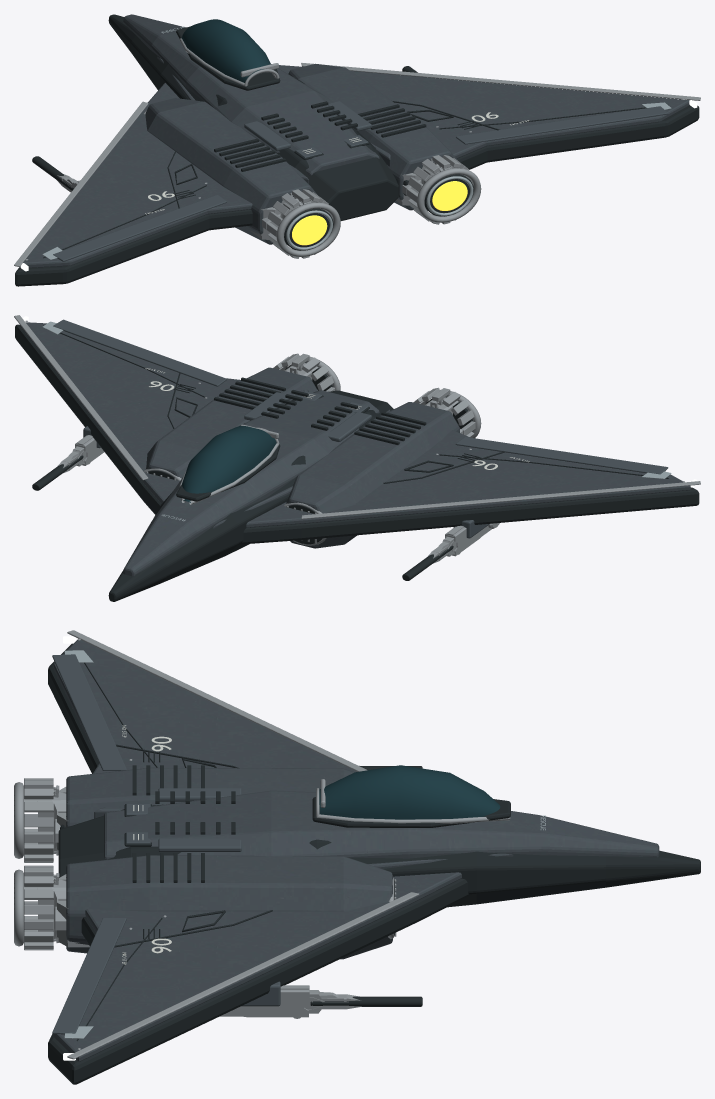
Rendered from specter.glb.
The picture shows the model from 3 angles, top to bottom: view 1: azimuth 30°, elevation 25°; view 2: azimuth 150°, elevation 25°; view 3: azimuth 270°, elevation 25°; orthographic projection. The views are drawn at different scales.
Parts seen in each view (by area): view 1: 主装甲_陶瓷金属涂层, 碳化结构与接缝, 拉丝钛合金, 次级装甲_深色钢, 镀膜座舱玻璃, 热喷口, 识别色; view 2: 主装甲_陶瓷金属涂层, 碳化结构与接缝, 拉丝钛合金, 次级装甲_深色钢, 镀膜座舱玻璃; view 3: 主装甲_陶瓷金属涂层, 碳化结构与接缝, 拉丝钛合金, 次级装甲_深色钢, 镀膜座舱玻璃.
Boxes of the visible parts, x1,y1,x2,y2 form: 主装甲_陶瓷金属涂层: [20, 14, 689, 268]; 碳化结构与接缝: [15, 14, 699, 286]; 拉丝钛合金: [14, 38, 700, 266]; 次级装甲_深色钢: [53, 101, 668, 261]; 镀膜座舱玻璃: [182, 19, 270, 82]; 热喷口: [292, 181, 467, 245]; 识别色: [42, 26, 671, 259]; 主装甲_陶瓷金属涂层: [20, 322, 690, 576]; 碳化结构与接缝: [15, 324, 699, 601]; 拉丝钛合金: [14, 315, 700, 563]; 次级装甲_深色钢: [53, 319, 668, 538]; 镀膜座舱玻璃: [181, 426, 276, 502]; 主装甲_陶瓷金属涂层: [53, 640, 659, 1061]; 碳化结构与接缝: [24, 643, 700, 1084]; 拉丝钛合金: [14, 630, 510, 1059]; 次级装甲_深色钢: [52, 654, 280, 1034]; 镀膜座舱玻璃: [319, 765, 500, 819].
Size of the model in its own units: 10.39 by 1.53 by 7.05.
Materials: 9 (1 with a texture image).
